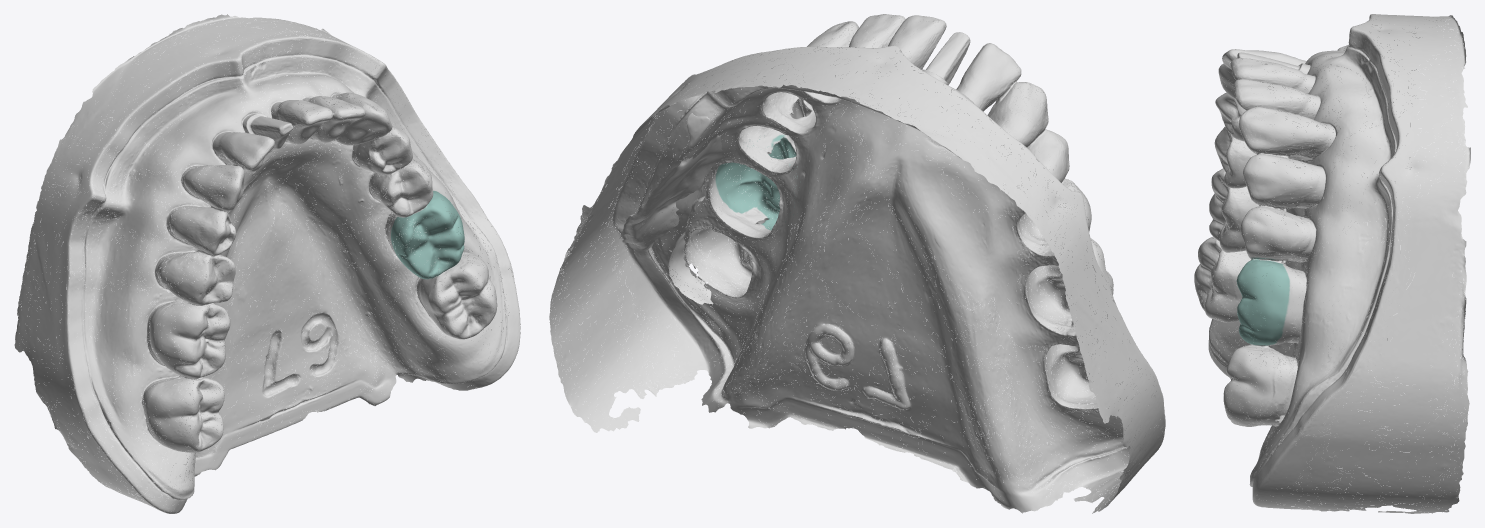
File: Halitosis.gltf
3 views of the same model, side by side, from view 1: azimuth 30°, elevation 25°; view 2: azimuth 150°, elevation 25°; view 3: azimuth 270°, elevation 25° (orthographic). The views are drawn at different scales.
Parts seen in each view (by area): view 1: Object_3, Object_6, Object_5, Object_4, Object_7, Object_8, Object_2, Object_9; view 2: Object_7, Object_5, Object_3, Object_8, Object_6, Object_4, Object_2, Object_9; view 3: Object_5, Object_6, Object_7, Object_2, Object_8, Object_4, Object_3, Object_9.
Part boxes in pixels (box(x1,y1,x2,y2)): Object_3: box(14, 90, 503, 512); Object_6: box(31, 21, 509, 513); Object_5: box(30, 17, 520, 513); Object_4: box(15, 14, 440, 452); Object_7: box(56, 22, 512, 494); Object_8: box(19, 14, 508, 473); Object_2: box(234, 32, 508, 431); Object_9: box(122, 43, 478, 486); Object_7: box(549, 15, 1162, 500); Object_5: box(553, 59, 1164, 513); Object_3: box(621, 14, 1165, 513); Object_8: box(549, 17, 1158, 506); Object_6: box(630, 45, 1165, 503); Object_4: box(594, 62, 1163, 434); Object_2: box(590, 14, 946, 451); Object_9: box(690, 15, 1094, 464); Object_5: box(1194, 16, 1470, 511); Object_6: box(1198, 14, 1459, 500); Object_7: box(1205, 15, 1467, 511); Object_2: box(1223, 41, 1449, 513); Object_8: box(1195, 14, 1469, 513); Object_4: box(1194, 15, 1470, 505); Object_3: box(1208, 33, 1420, 479); Object_9: box(1212, 14, 1401, 446).
Size of the model in its own units: 78.28 by 64.63 by 38.72.
